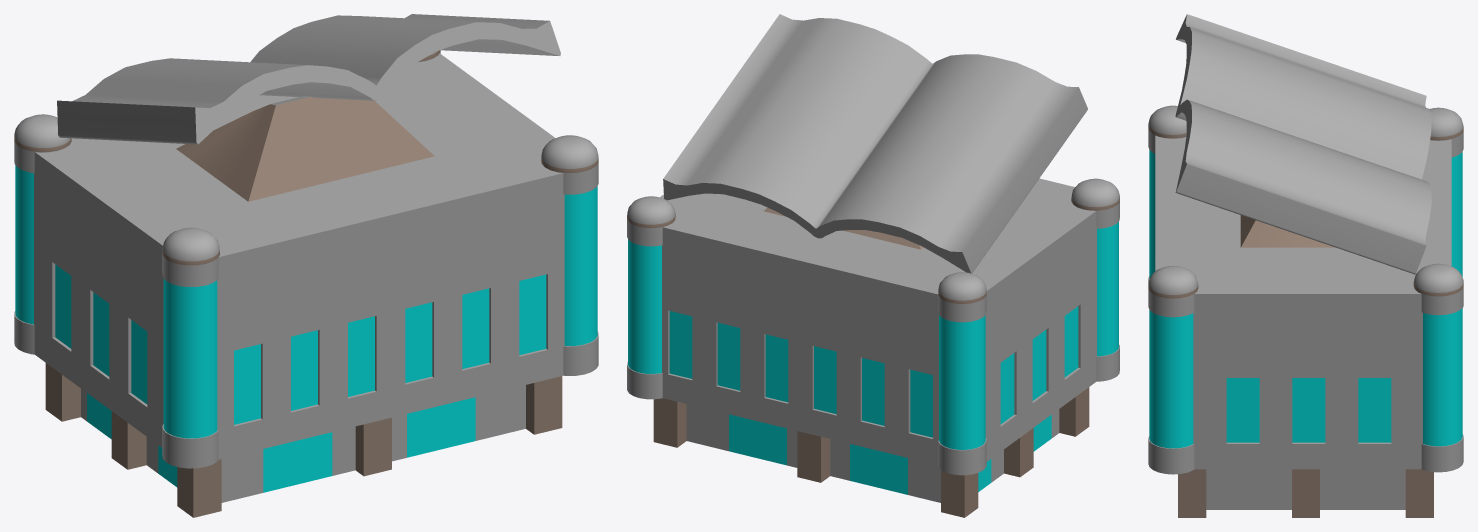
Rendered from library.fbx.
3 renders of one model, left to right at view 1: azimuth 30°, elevation 25°; view 2: azimuth 150°, elevation 25°; view 3: azimuth 270°, elevation 25°, orthographic. The views are drawn at different scales.
Parts seen in each view (by area): view 1: library; view 2: library; view 3: library.
Boxes of the visible parts, x1,y1,x2,y2 form: library: [14, 14, 598, 517]; library: [627, 14, 1119, 517]; library: [1148, 14, 1463, 517].
Size of the model in its own units: 229 by 214 by 168.
